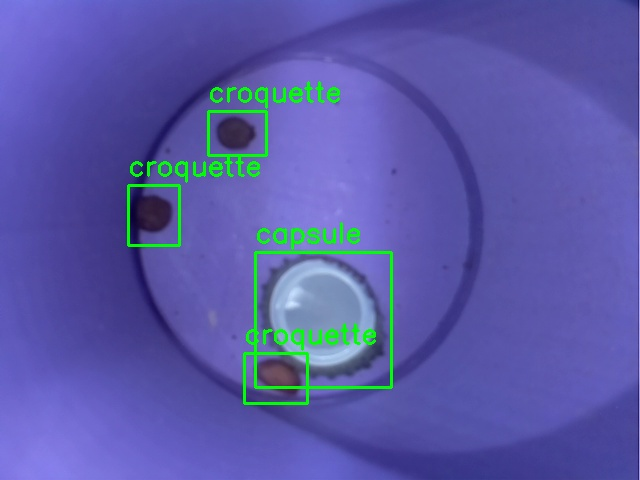capsule: (255, 252, 391, 387)
croquette: (244, 353, 307, 403), (128, 185, 179, 245), (208, 111, 266, 155)
